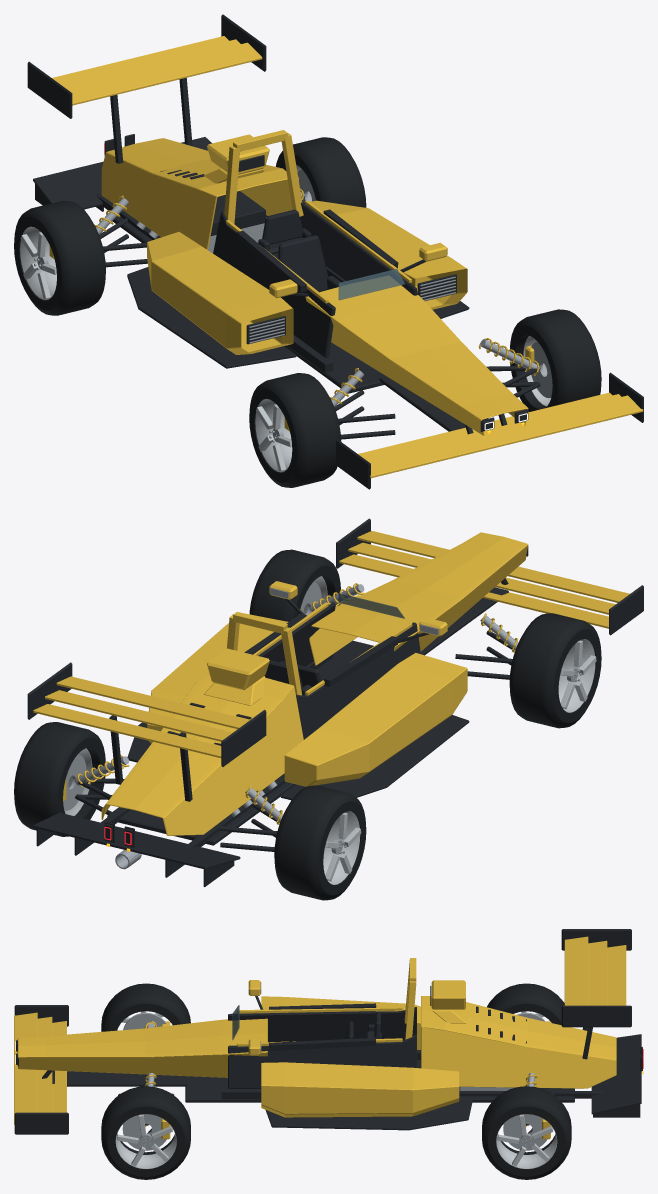
Rendered from formula-r001.glb.
3 renders of one model, top to bottom at view 1: azimuth 30°, elevation 25°; view 2: azimuth 150°, elevation 25°; view 3: azimuth 270°, elevation 25°, orthographic. The views are drawn at different scales.
Visible parts, largest first — view 1: hood.paint, trunk.paint, right-door.paint, cabin.dark, front-bumper.paint, wheel:3.rubber, wheel:1.rubber, spoiler.paint, wheel:0.rubber, left-door.paint, frame.dark, wheel:2.rubber (+17 smaller); view 2: trunk.paint, right-door.paint, hood.paint, spoiler.paint, front-bumper.paint, wheel:1.rubber, wheel:3.rubber, wheel:2.rubber, cabin.dark, rear-bumper.dark, frame.dark, wheel:0.rubber (+15 smaller); view 3: trunk.paint, hood.paint, left-door.paint, cabin.dark, wheel:2.rubber, wheel:0.rubber, frame.dark, spoiler.paint, front-bumper.paint, rear-bumper.dark, left-floor.dark, spoiler.dark (+14 smaller).
Boxes of the visible parts, <box> form: hood.paint: <box>305,276,528,435</box>; trunk.paint: <box>101,138,292,249</box>; right-door.paint: <box>147,232,293,354</box>; cabin.dark: <box>213,200,417,357</box>; front-bumper.paint: <box>358,392,643,478</box>; wheel:3.rubber: <box>14,200,105,315</box>; wheel:1.rubber: <box>249,373,341,487</box>; spoiler.paint: <box>52,36,262,105</box>; wheel:0.rubber: <box>510,309,601,411</box>; left-door.paint: <box>310,200,467,309</box>; frame.dark: <box>96,193,488,431</box>; wheel:2.rubber: <box>275,137,366,207</box>; trunk.paint: <box>101,672,303,835</box>; right-door.paint: <box>284,653,467,786</box>; hood.paint: <box>309,532,528,665</box>; spoiler.paint: <box>33,676,249,758</box>; front-bumper.paint: <box>339,530,629,628</box>; wheel:1.rubber: <box>509,613,601,728</box>; wheel:3.rubber: <box>274,785,366,900</box>; wheel:2.rubber: <box>14,722,105,836</box>; cabin.dark: <box>258,603,420,739</box>; rear-bumper.dark: <box>33,813,240,886</box>; frame.dark: <box>96,587,508,848</box>; wheel:0.rubber: <box>249,549,340,621</box>; trunk.paint: <box>421,996,616,1088</box>; hood.paint: <box>18,1018,267,1077</box>; left-door.paint: <box>261,1062,459,1117</box>; cabin.dark: <box>228,1007,416,1088</box>; wheel:2.rubber: <box>482,1086,571,1179</box>; wheel:0.rubber: <box>101,1086,190,1179</box>; frame.dark: <box>52,1050,603,1102</box>; spoiler.paint: <box>564,936,626,1005</box>; front-bumper.paint: <box>14,1012,66,1124</box>; rear-bumper.dark: <box>591,1034,641,1117</box>; left-floor.dark: <box>265,1100,472,1130</box>; spoiler.dark: <box>561,929,631,1059</box>.
Size of the model in its own units: 2.17 by 1.29 by 4.77.
